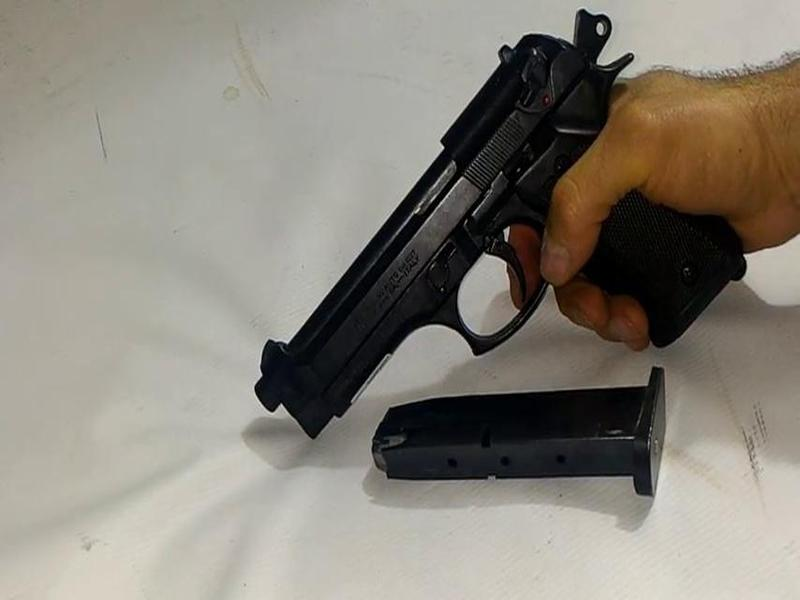Pistola: (224, 8, 748, 450)
